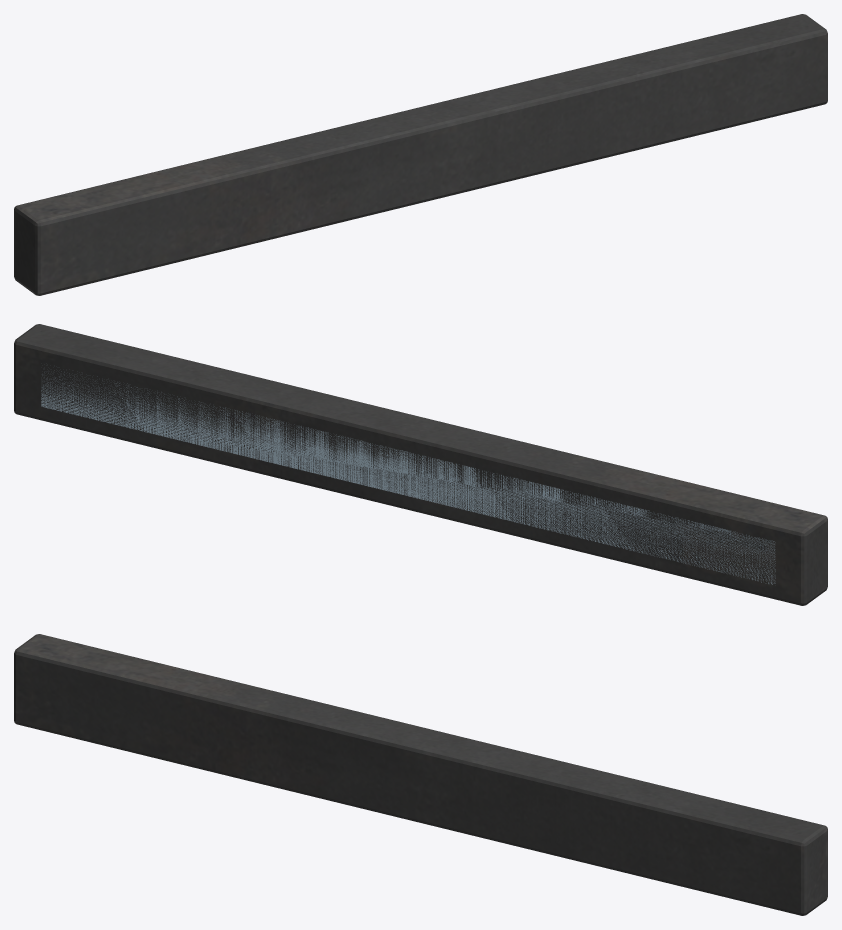
Rendered from SM_GarageConcrete_LEDBar.fbx.
3 renders of one model, top to bottom at view 1: azimuth 30°, elevation 25°; view 2: azimuth 150°, elevation 25°; view 3: azimuth 330°, elevation 25°, orthographic.
Parts seen in each view (by area): view 1: SM_GarageConcrete_LEDBar; view 2: SM_GarageConcrete_LEDBar; view 3: SM_GarageConcrete_LEDBar.
Boxes of the visible parts, <box> form: SM_GarageConcrete_LEDBar: <box>14,14,827,295</box>; SM_GarageConcrete_LEDBar: <box>14,324,827,605</box>; SM_GarageConcrete_LEDBar: <box>14,634,827,915</box>.
Bounding box in the file's own units: 110 × 6 × 10.
